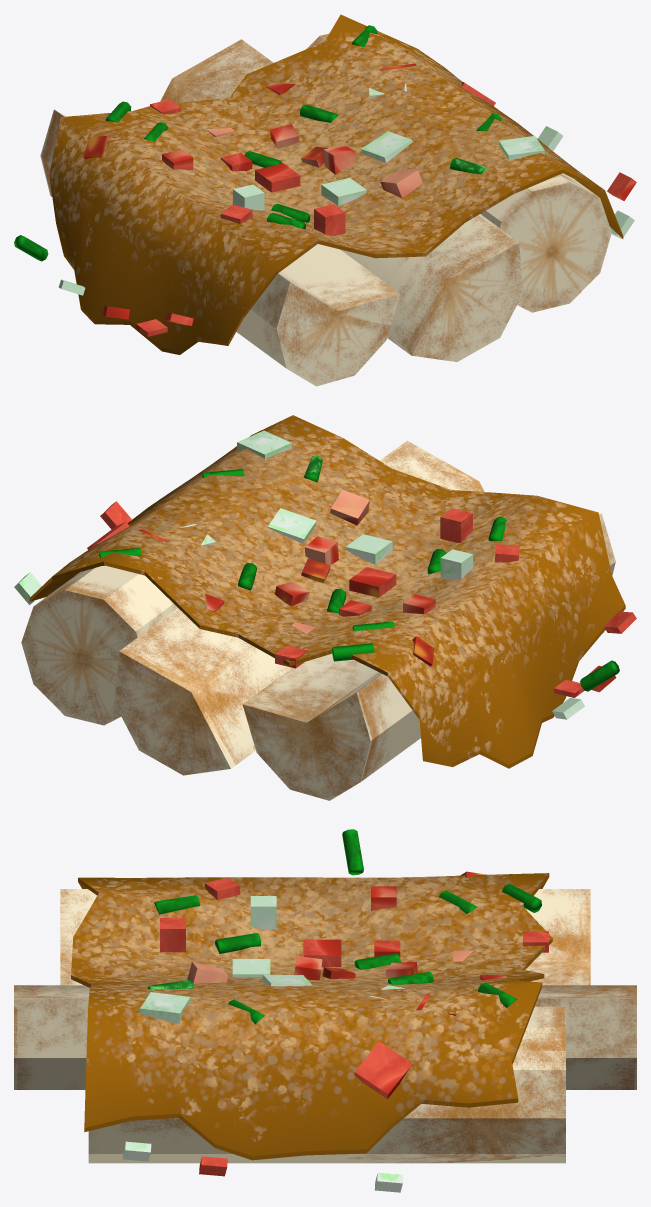
The model's file is yucaaC.glb.
3 views of the same model, one above another, from view 1: azimuth 30°, elevation 25°; view 2: azimuth 150°, elevation 25°; view 3: azimuth 270°, elevation 25° (orthographic). The views are drawn at different scales.
Parts seen in each view (by area): view 1: Plato2; view 2: Plato2; view 3: Plato2.
Part boxes in pixels (x1=…): Plato2: x1=14, y1=14, x2=636, y2=386; Plato2: x1=14, y1=415, x2=636, y2=800; Plato2: x1=14, y1=829, x2=636, y2=1192.
Bounding box in the file's own units: 2.14 × 0.6187 × 1.84.
Materials: 5 (5 with a texture image).
